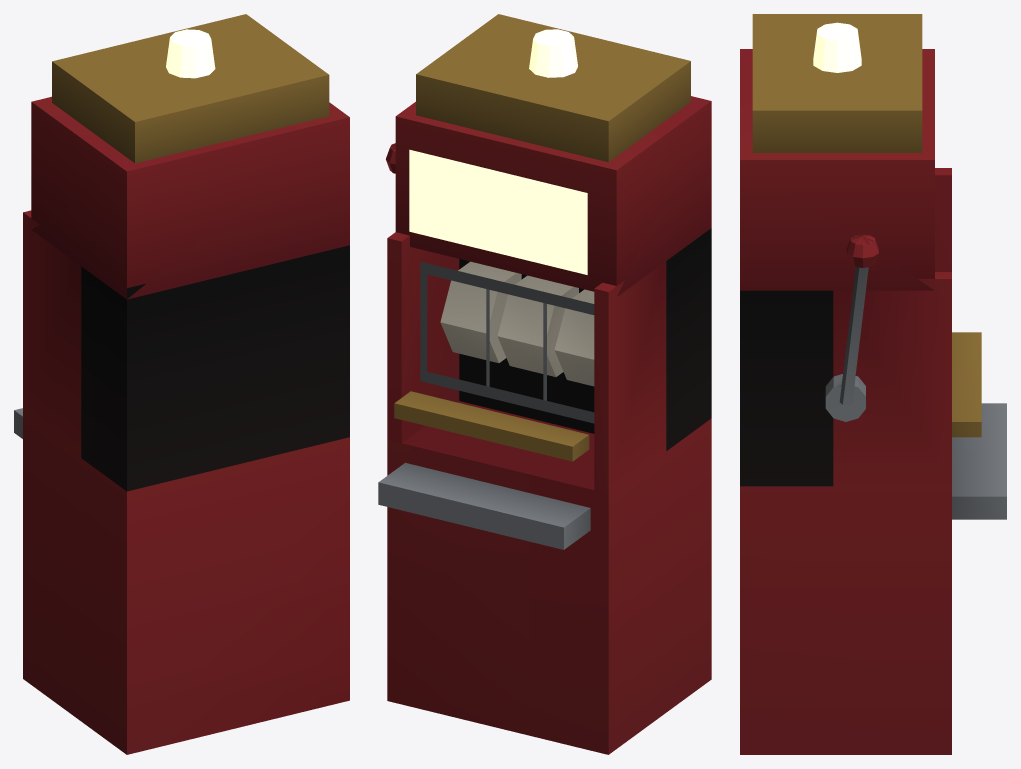
Rendered from slot_machine_low.glb.
3 views of the same model, side by side, from view 1: azimuth 30°, elevation 25°; view 2: azimuth 150°, elevation 25°; view 3: azimuth 270°, elevation 25° (orthographic). The views are drawn at different scales.
Parts seen in each view (by area): view 1: slot_machine; view 2: slot_machine, reel_2, reel_1, reel_0; view 3: slot_machine, lever.
Part boxes in pixels (x1,y1,x2,y2): slot_machine: (14,14,349,754); slot_machine: (378,14,711,754); reel_2: (440,261,521,363); reel_1: (497,275,578,376); reel_0: (554,289,594,386); slot_machine: (740,14,1006,754); lever: (839,234,878,405).
Bounding box in the file's own units: 0.74 × 1.76 × 0.63.
